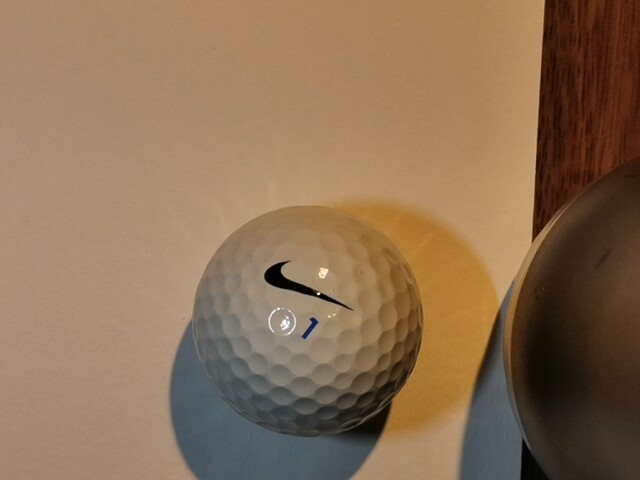Ball: (192, 205, 423, 437)
Nike: (263, 260, 356, 312)
